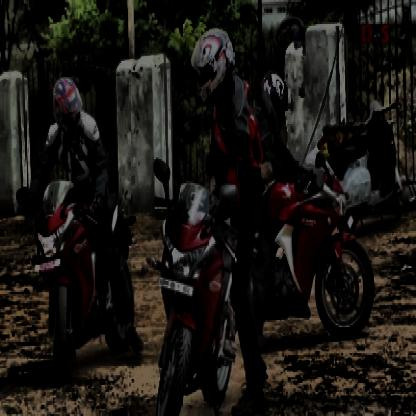wear: (195, 26, 229, 96), (50, 78, 84, 138), (262, 66, 290, 127)
